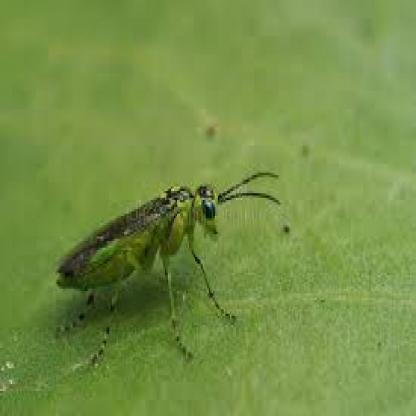sawfly: (56, 173, 281, 369)
